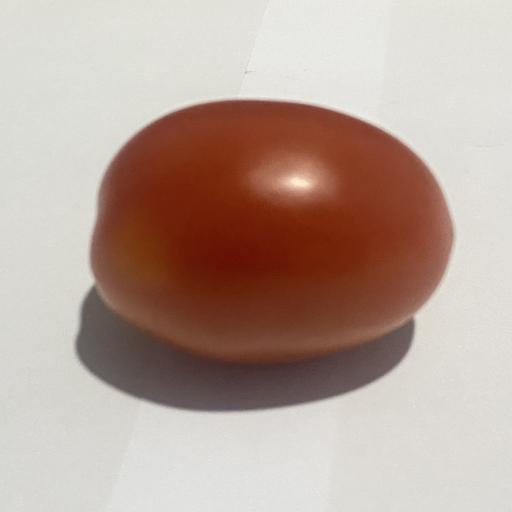ripe: (91, 100, 453, 362)
